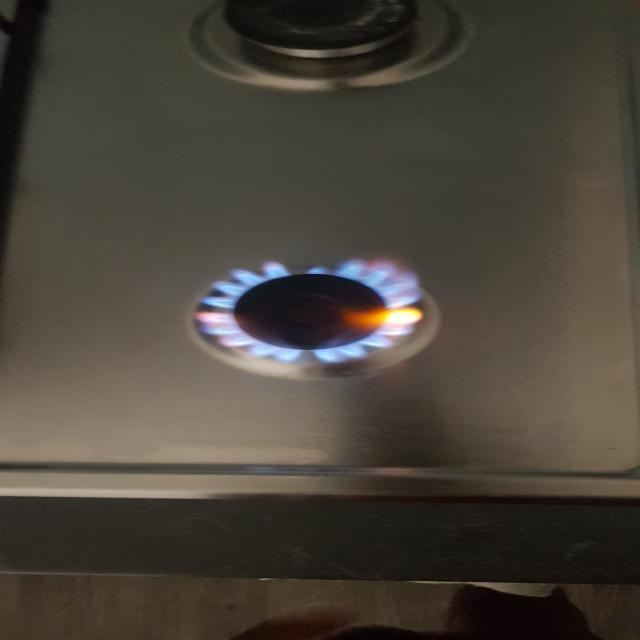Flame: (190, 259, 439, 381)
